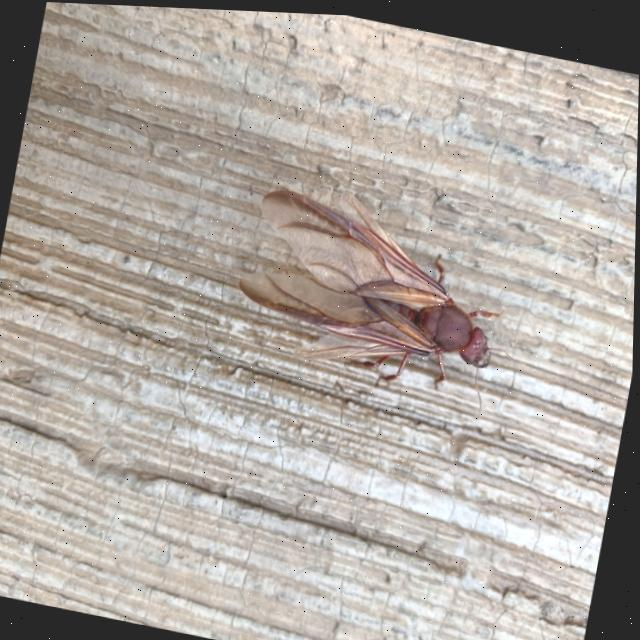Alive-Female-Alate: (224, 173, 552, 422)
